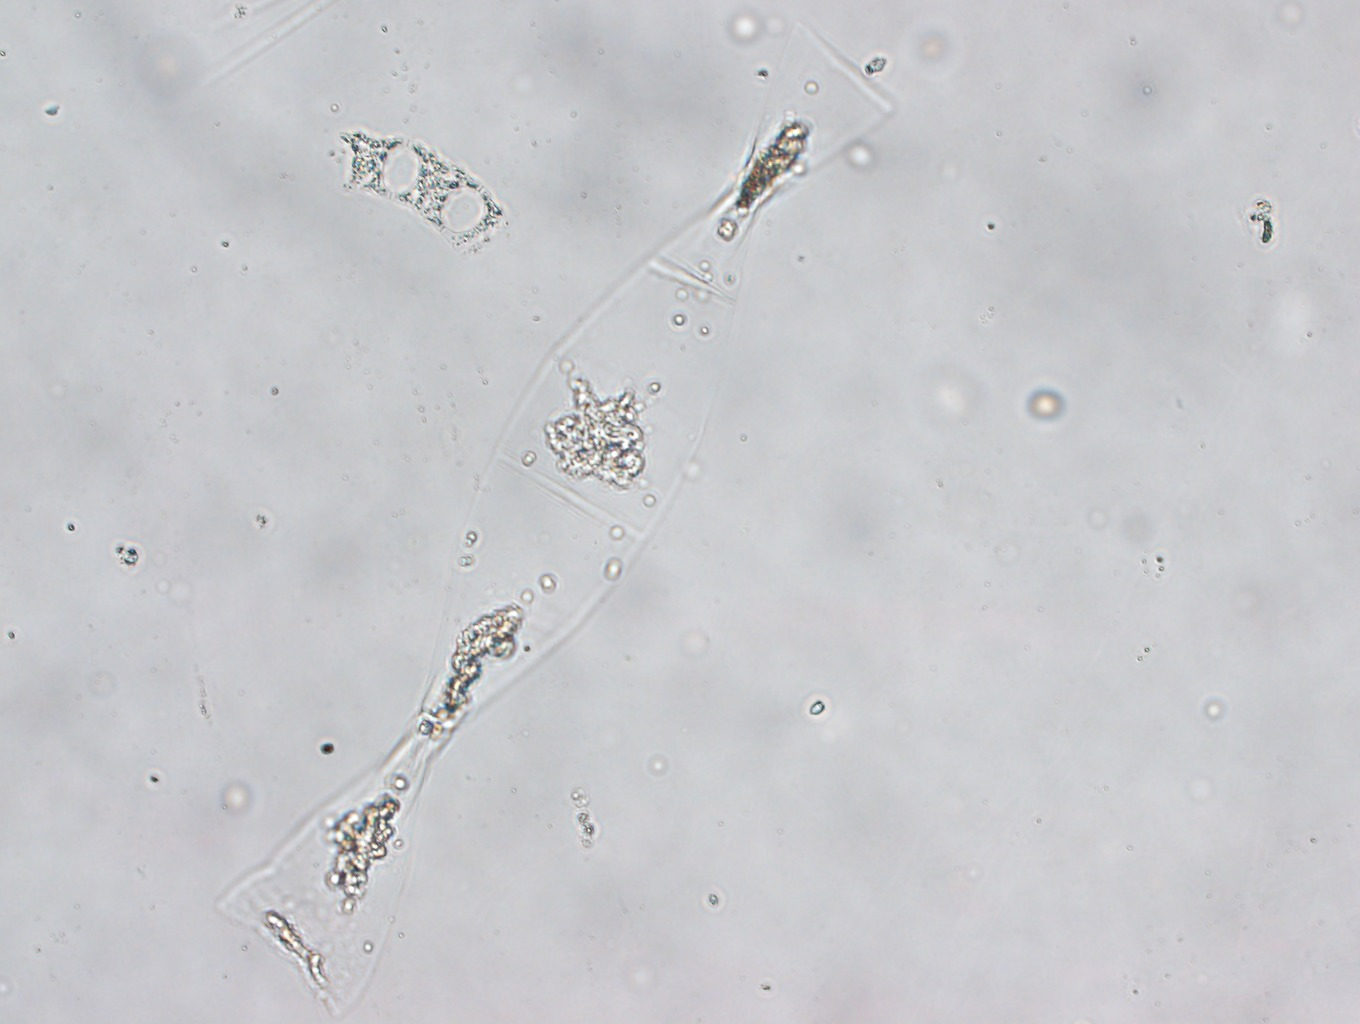eucampia: (342, 124, 510, 253)
helicotheca: (216, 15, 899, 1014)
